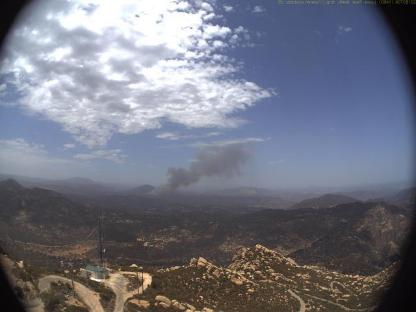smoke: (145, 138, 256, 204)
